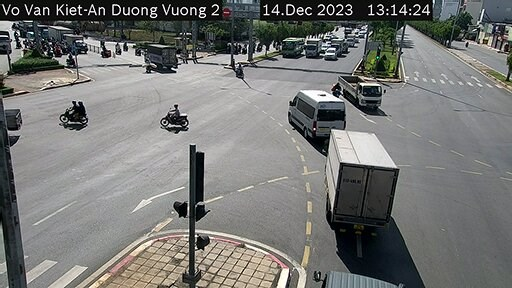car: (282, 82, 348, 134), (281, 32, 302, 58), (327, 46, 337, 61)
motorbike: (162, 100, 192, 132), (64, 98, 88, 130), (328, 82, 344, 97)
truck: (315, 126, 408, 234), (335, 68, 383, 109), (139, 46, 183, 71), (305, 37, 320, 62)
